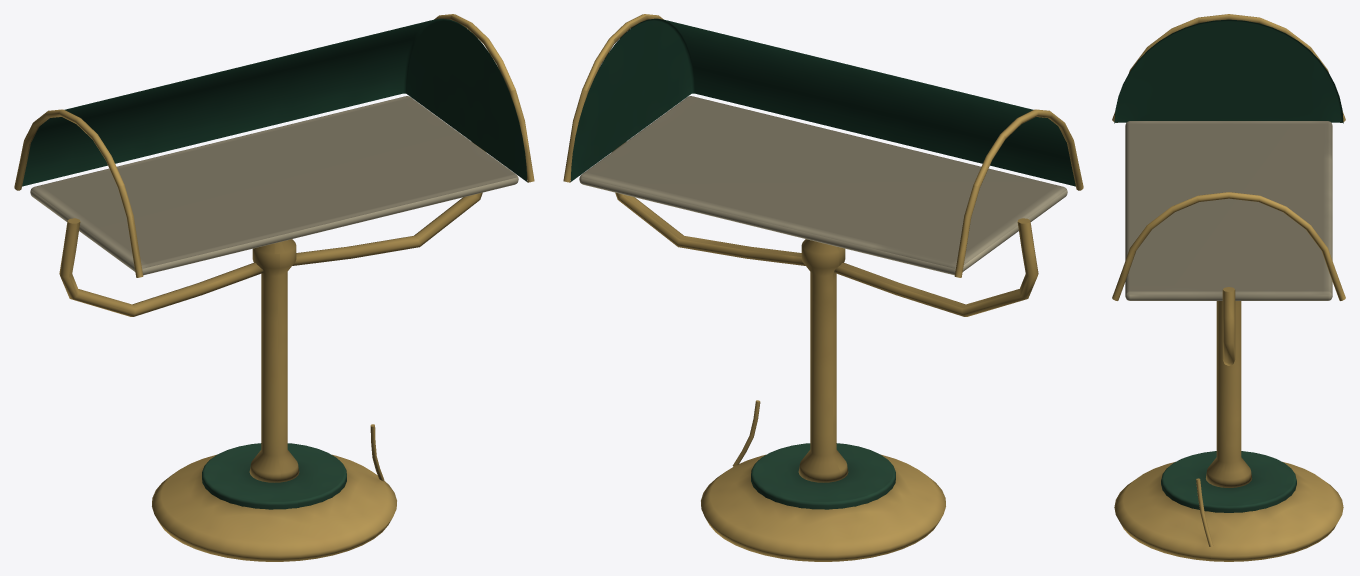
Rendered from lamp-03.gltf.
3 renders of one model, left to right at view 1: azimuth 30°, elevation 25°; view 2: azimuth 150°, elevation 25°; view 3: azimuth 270°, elevation 25°, orthographic. The views are drawn at different scales.
Visible parts, largest first — view 1: lamp-03; view 2: lamp-03; view 3: lamp-03.
Part boxes in pixels (box(x1,y1,x2,y2)): lamp-03: box(14, 14, 534, 561); lamp-03: box(563, 14, 1083, 561); lamp-03: box(1112, 14, 1345, 561).
Bounding box in the file's own units: 0.5239 × 0.524 × 0.2653.
Materials: 4 (4 with a texture image).
